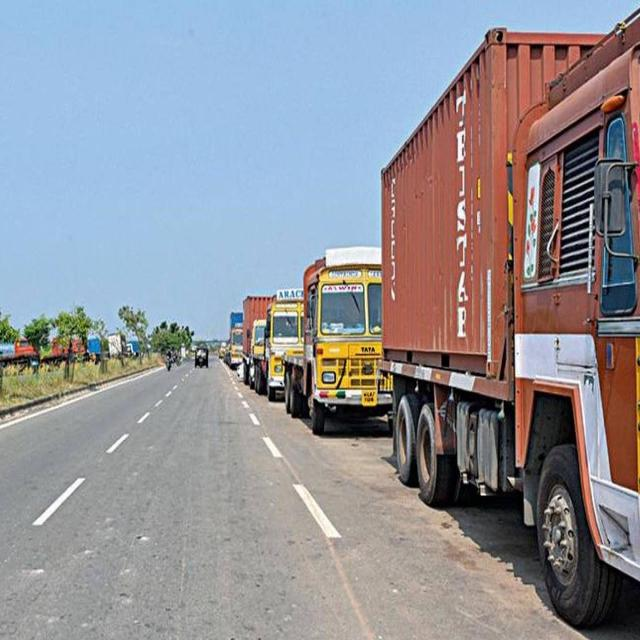truck: (381, 9, 640, 627), (280, 247, 390, 436), (251, 289, 304, 400)
